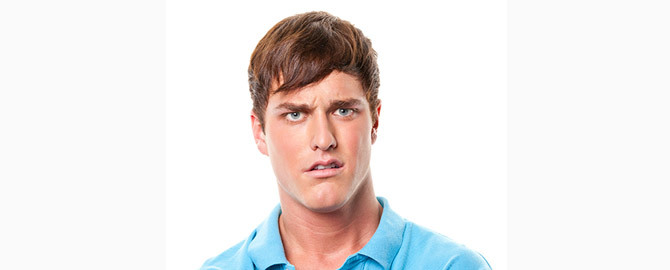confused: (263, 64, 384, 221)
